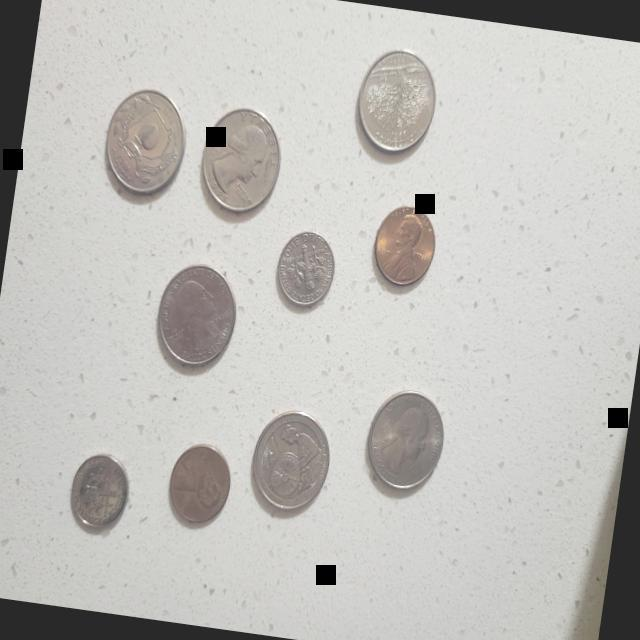Dime: (63, 442, 138, 540), (272, 223, 342, 313)
Penny: (363, 195, 448, 302), (162, 433, 240, 536)
Quarter: (94, 79, 193, 207), (347, 39, 445, 161), (148, 257, 246, 378), (244, 399, 337, 522), (196, 103, 288, 219), (364, 386, 448, 494)
